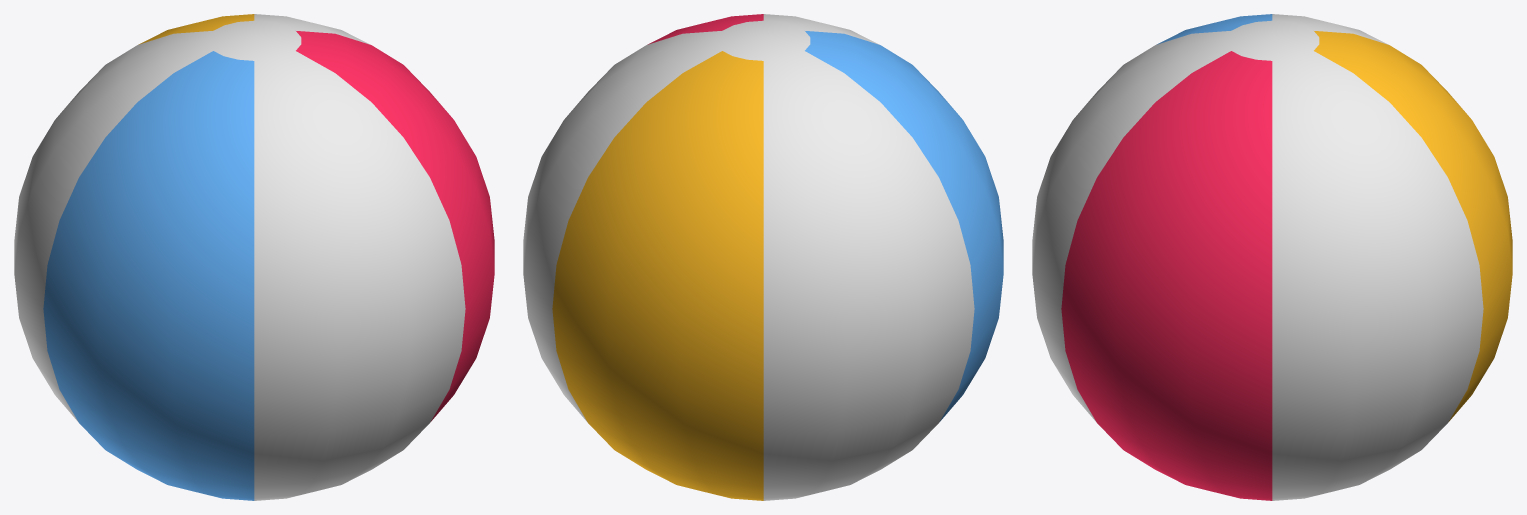
The picture shows the model from 3 angles, left to right: view 1: azimuth 30°, elevation 25°; view 2: azimuth 150°, elevation 25°; view 3: azimuth 270°, elevation 25°; orthographic projection.
Parts seen in each view (by area): view 1: ball; view 2: ball; view 3: ball.
Boxes of the visible parts, bbox=[...] form: ball: bbox=[14, 14, 494, 500]; ball: bbox=[523, 14, 1003, 500]; ball: bbox=[1032, 14, 1512, 500].
Size of the model in its own units: 2 by 2 by 1.97.
